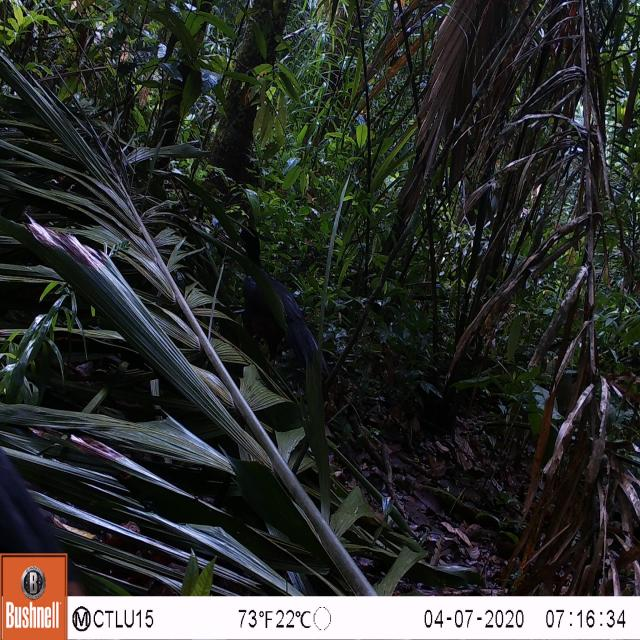Salvins Curassow: (231, 210, 338, 410)
